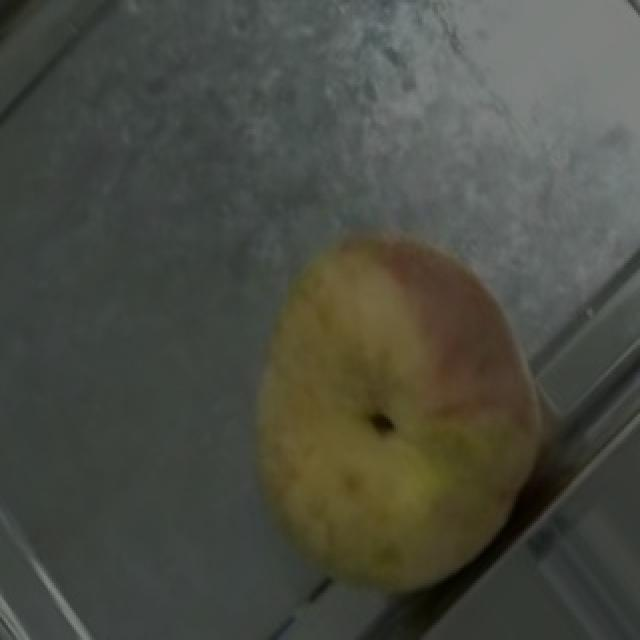Fruit: (214, 186, 560, 571)
